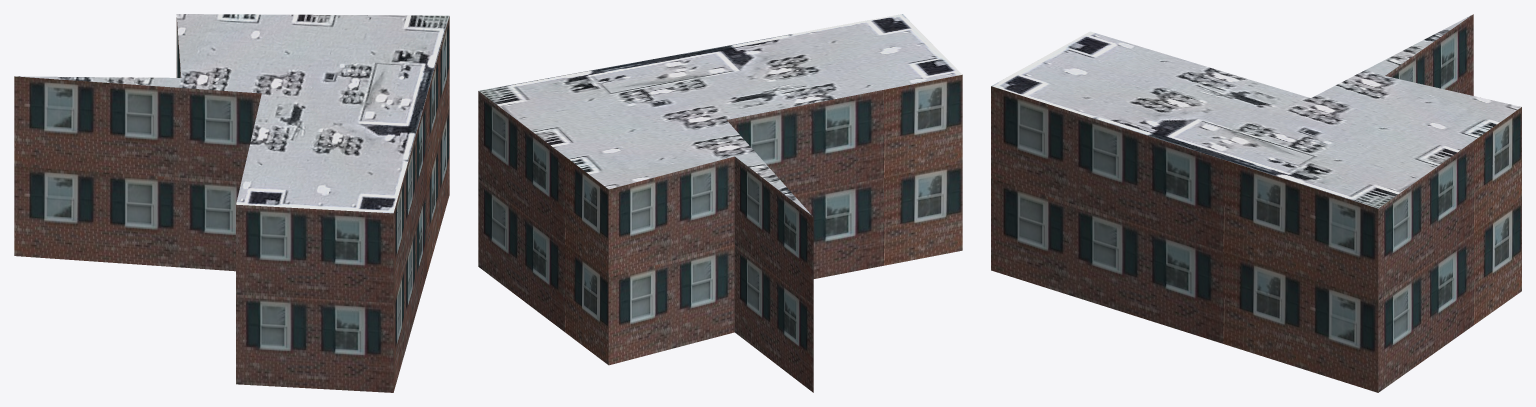
File: ResTex__3595.fbx
3 renders of one model, left to right at view 1: azimuth 30°, elevation 25°; view 2: azimuth 150°, elevation 25°; view 3: azimuth 270°, elevation 25°, orthographic. The views are drawn at different scales.
Visible parts, largest first — view 1: CityEngineMaterial_14_m, CityEngineMaterial_2_m; view 2: CityEngineMaterial_14_m, CityEngineMaterial_2_m; view 3: CityEngineMaterial_14_m, CityEngineMaterial_2_m.
Part boxes in pixels (bbox=[...]): CityEngineMaterial_14_m: bbox=[14, 16, 449, 392]; CityEngineMaterial_2_m: bbox=[15, 14, 449, 213]; CityEngineMaterial_14_m: bbox=[478, 74, 962, 392]; CityEngineMaterial_2_m: bbox=[478, 14, 961, 215]; CityEngineMaterial_14_m: bbox=[991, 14, 1521, 392]; CityEngineMaterial_2_m: bbox=[991, 14, 1521, 208].
Bounding box in the file's own units: 13.59 × 6 × 15.66.
2 materials, 2 textured.
